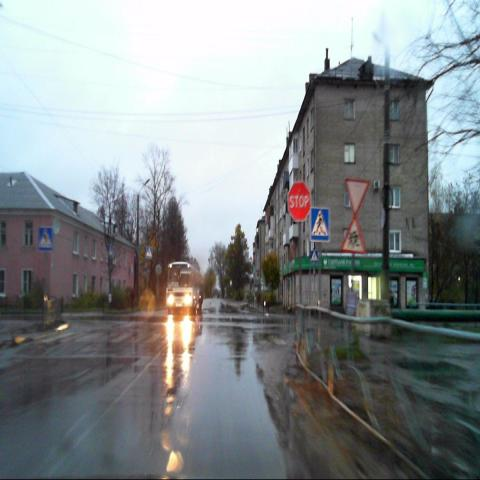2_5: (287, 182, 311, 222)
